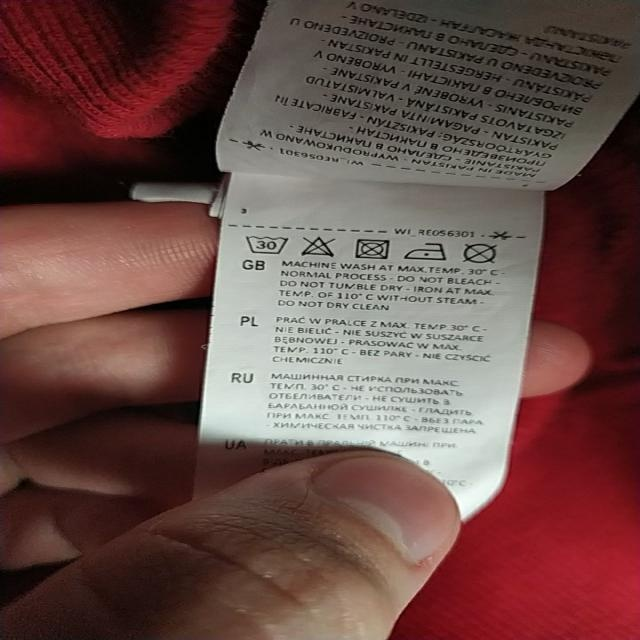30C: (243, 229, 295, 254)
DN_bleach: (301, 233, 338, 259)
DN_dry_clean: (461, 242, 501, 263)
DN_tumble_dry: (351, 235, 394, 260)
iron_low: (405, 240, 448, 263)
